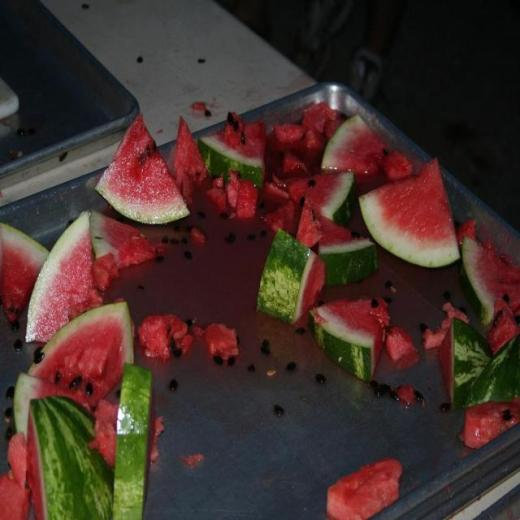Cherry: (25, 301, 134, 413), (18, 401, 115, 520), (358, 158, 460, 269), (96, 112, 191, 225), (27, 210, 104, 344), (90, 206, 167, 290), (320, 114, 412, 183), (260, 228, 326, 324), (310, 297, 380, 385), (113, 363, 151, 520), (461, 234, 520, 326), (438, 318, 495, 411), (0, 220, 49, 323), (198, 117, 266, 191), (269, 172, 358, 228), (320, 215, 377, 286), (465, 334, 519, 408)
